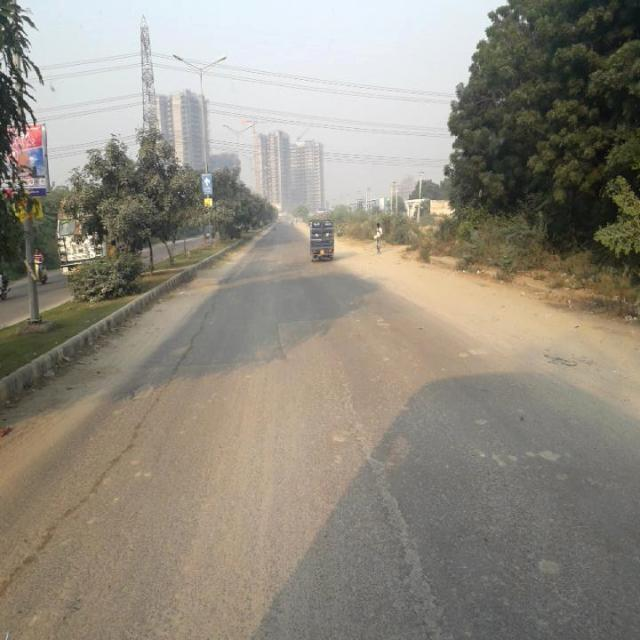pothole: (334, 364, 434, 628)
